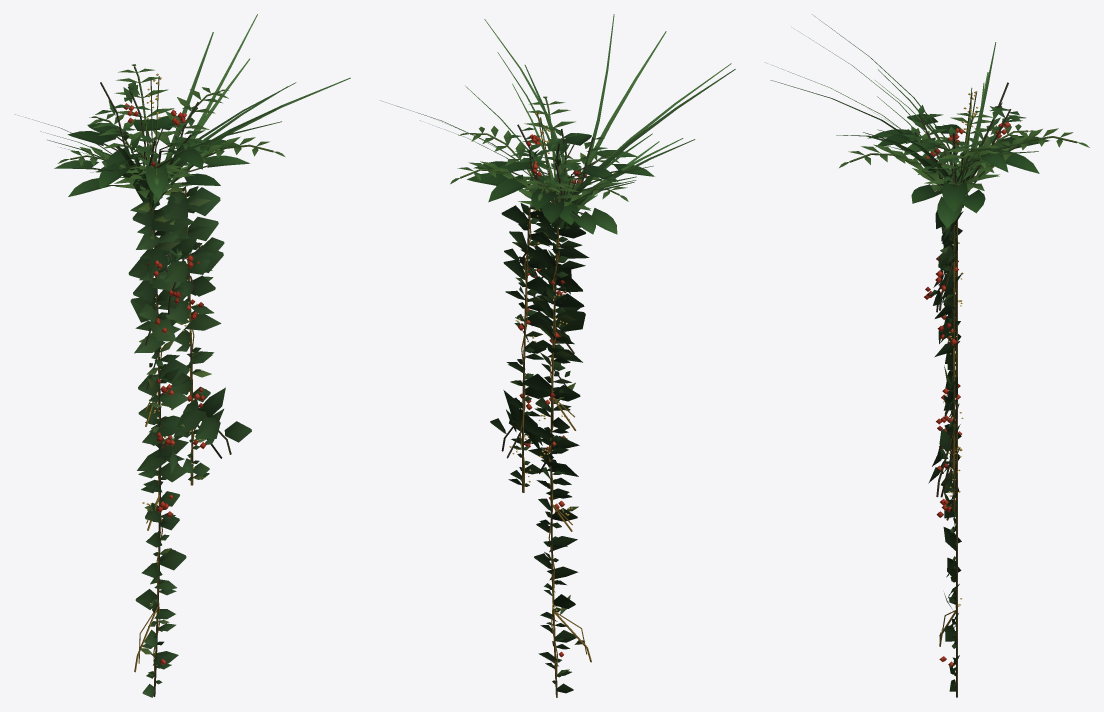
The model's file is hw_plants.glb.
3 renders of one model, left to right at view 1: azimuth 30°, elevation 25°; view 2: azimuth 150°, elevation 25°; view 3: azimuth 270°, elevation 25°, orthographic. The views are drawn at different scales.
Visible parts, largest first — view 1: strand_0, strand_2, herb_0, herb_1, herb_2, strand_1, herb_3, strand_3; view 2: strand_0, herb_2, herb_0, strand_2, strand_1, herb_1, strand_3, herb_3; view 3: strand_0, herb_0, herb_1, herb_2, herb_3, strand_2, strand_1, strand_3.
Boxes of the visible parts, bbox=[...] form: strand_0: bbox=[128, 187, 251, 697]; strand_2: bbox=[130, 189, 223, 696]; herb_0: bbox=[54, 116, 250, 199]; herb_1: bbox=[57, 64, 284, 199]; herb_2: bbox=[15, 14, 350, 209]; strand_1: bbox=[134, 187, 212, 696]; herb_3: bbox=[95, 81, 205, 203]; strand_3: bbox=[146, 186, 206, 684]; strand_0: bbox=[490, 205, 589, 697]; herb_2: bbox=[380, 14, 735, 229]; herb_0: bbox=[467, 133, 654, 234]; strand_2: bbox=[505, 208, 585, 697]; strand_1: bbox=[509, 207, 591, 697]; herb_1: bbox=[450, 96, 628, 226]; strand_3: bbox=[516, 203, 570, 683]; herb_3: bbox=[505, 124, 607, 225]; strand_0: bbox=[928, 210, 963, 697]; herb_0: bbox=[867, 114, 1049, 228]; herb_1: bbox=[839, 110, 1089, 193]; herb_2: bbox=[765, 14, 1042, 207]; herb_3: bbox=[903, 82, 1026, 191]; strand_2: bbox=[924, 221, 961, 697]; strand_1: bbox=[939, 220, 963, 697]; strand_3: bbox=[937, 231, 956, 686].
Size of the model in its own units: 1.12 by 2.56 by 1.19.
